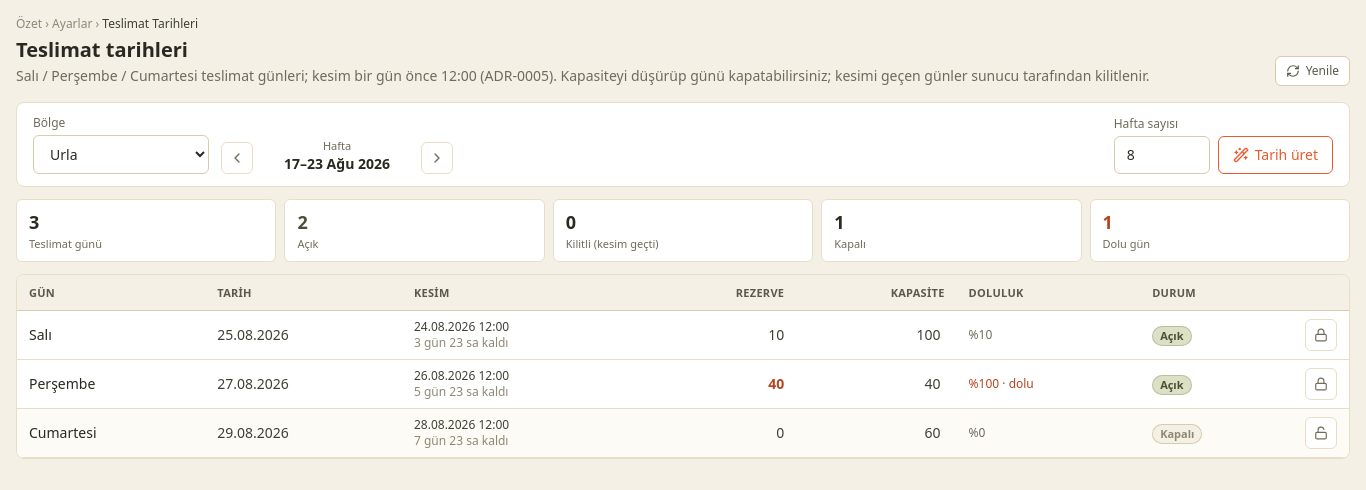
it: AdminTeslimatTarihleriPage (ekran 14b) › rezervenin altına kapasite girilirse istemci uyarır, istek gitmez
Expected: the text "25.08.2026" is shown, [205,311,402,360]
Click the button "100".
click(929, 335)  # box [913,325,945,345]
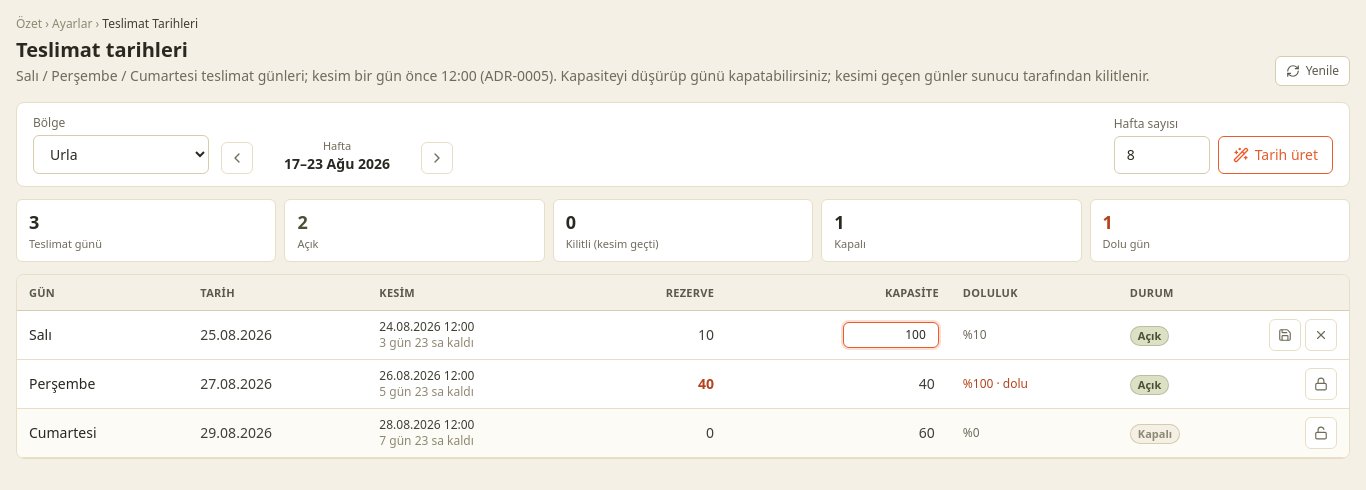
Replace the text in the field named "25.08.2026 kapasitesi" with "5" at (891, 335), box [843,322,939,348]
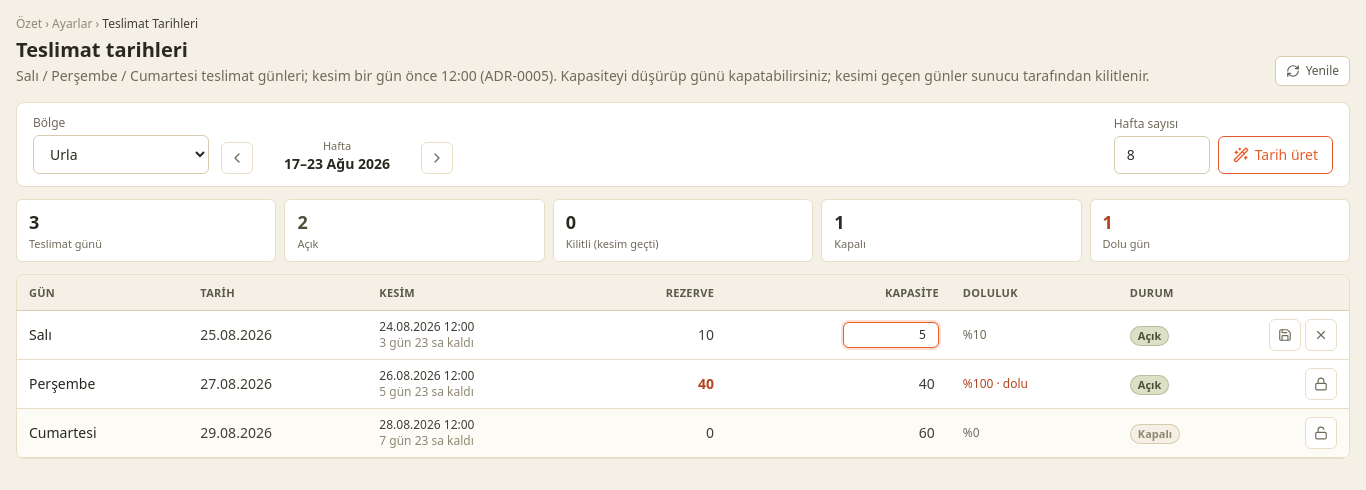
Click the button named "Kapasiteyi kaydet".
click(1285, 335)  # box [1269,319,1301,351]
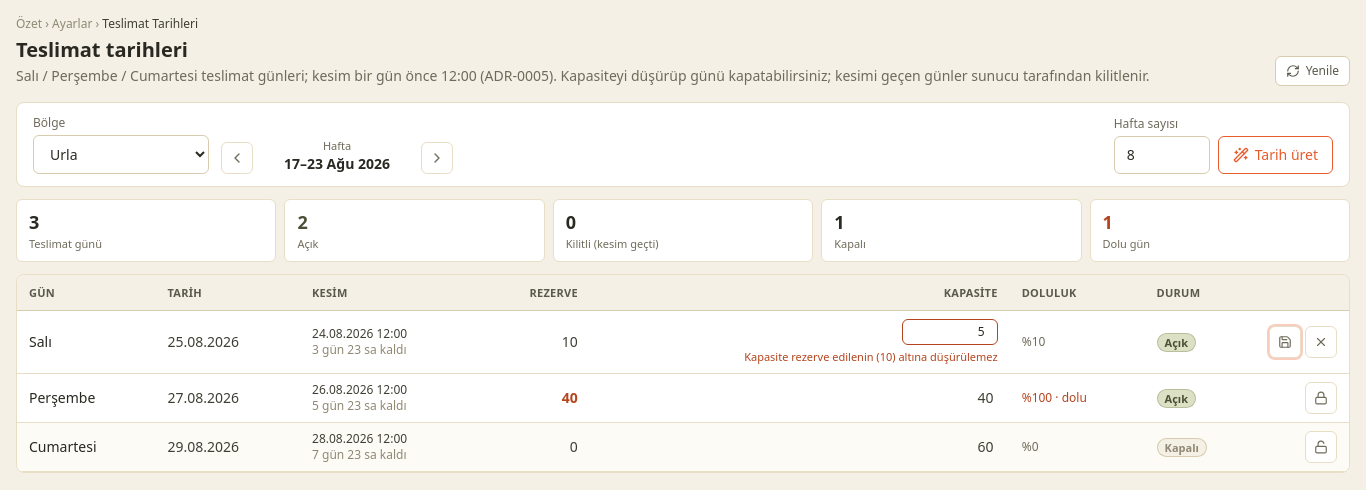
Now the text "Kapasite rezerve edilenin (10) altına düşürülemez" is shown, box [744,349,998,365]
